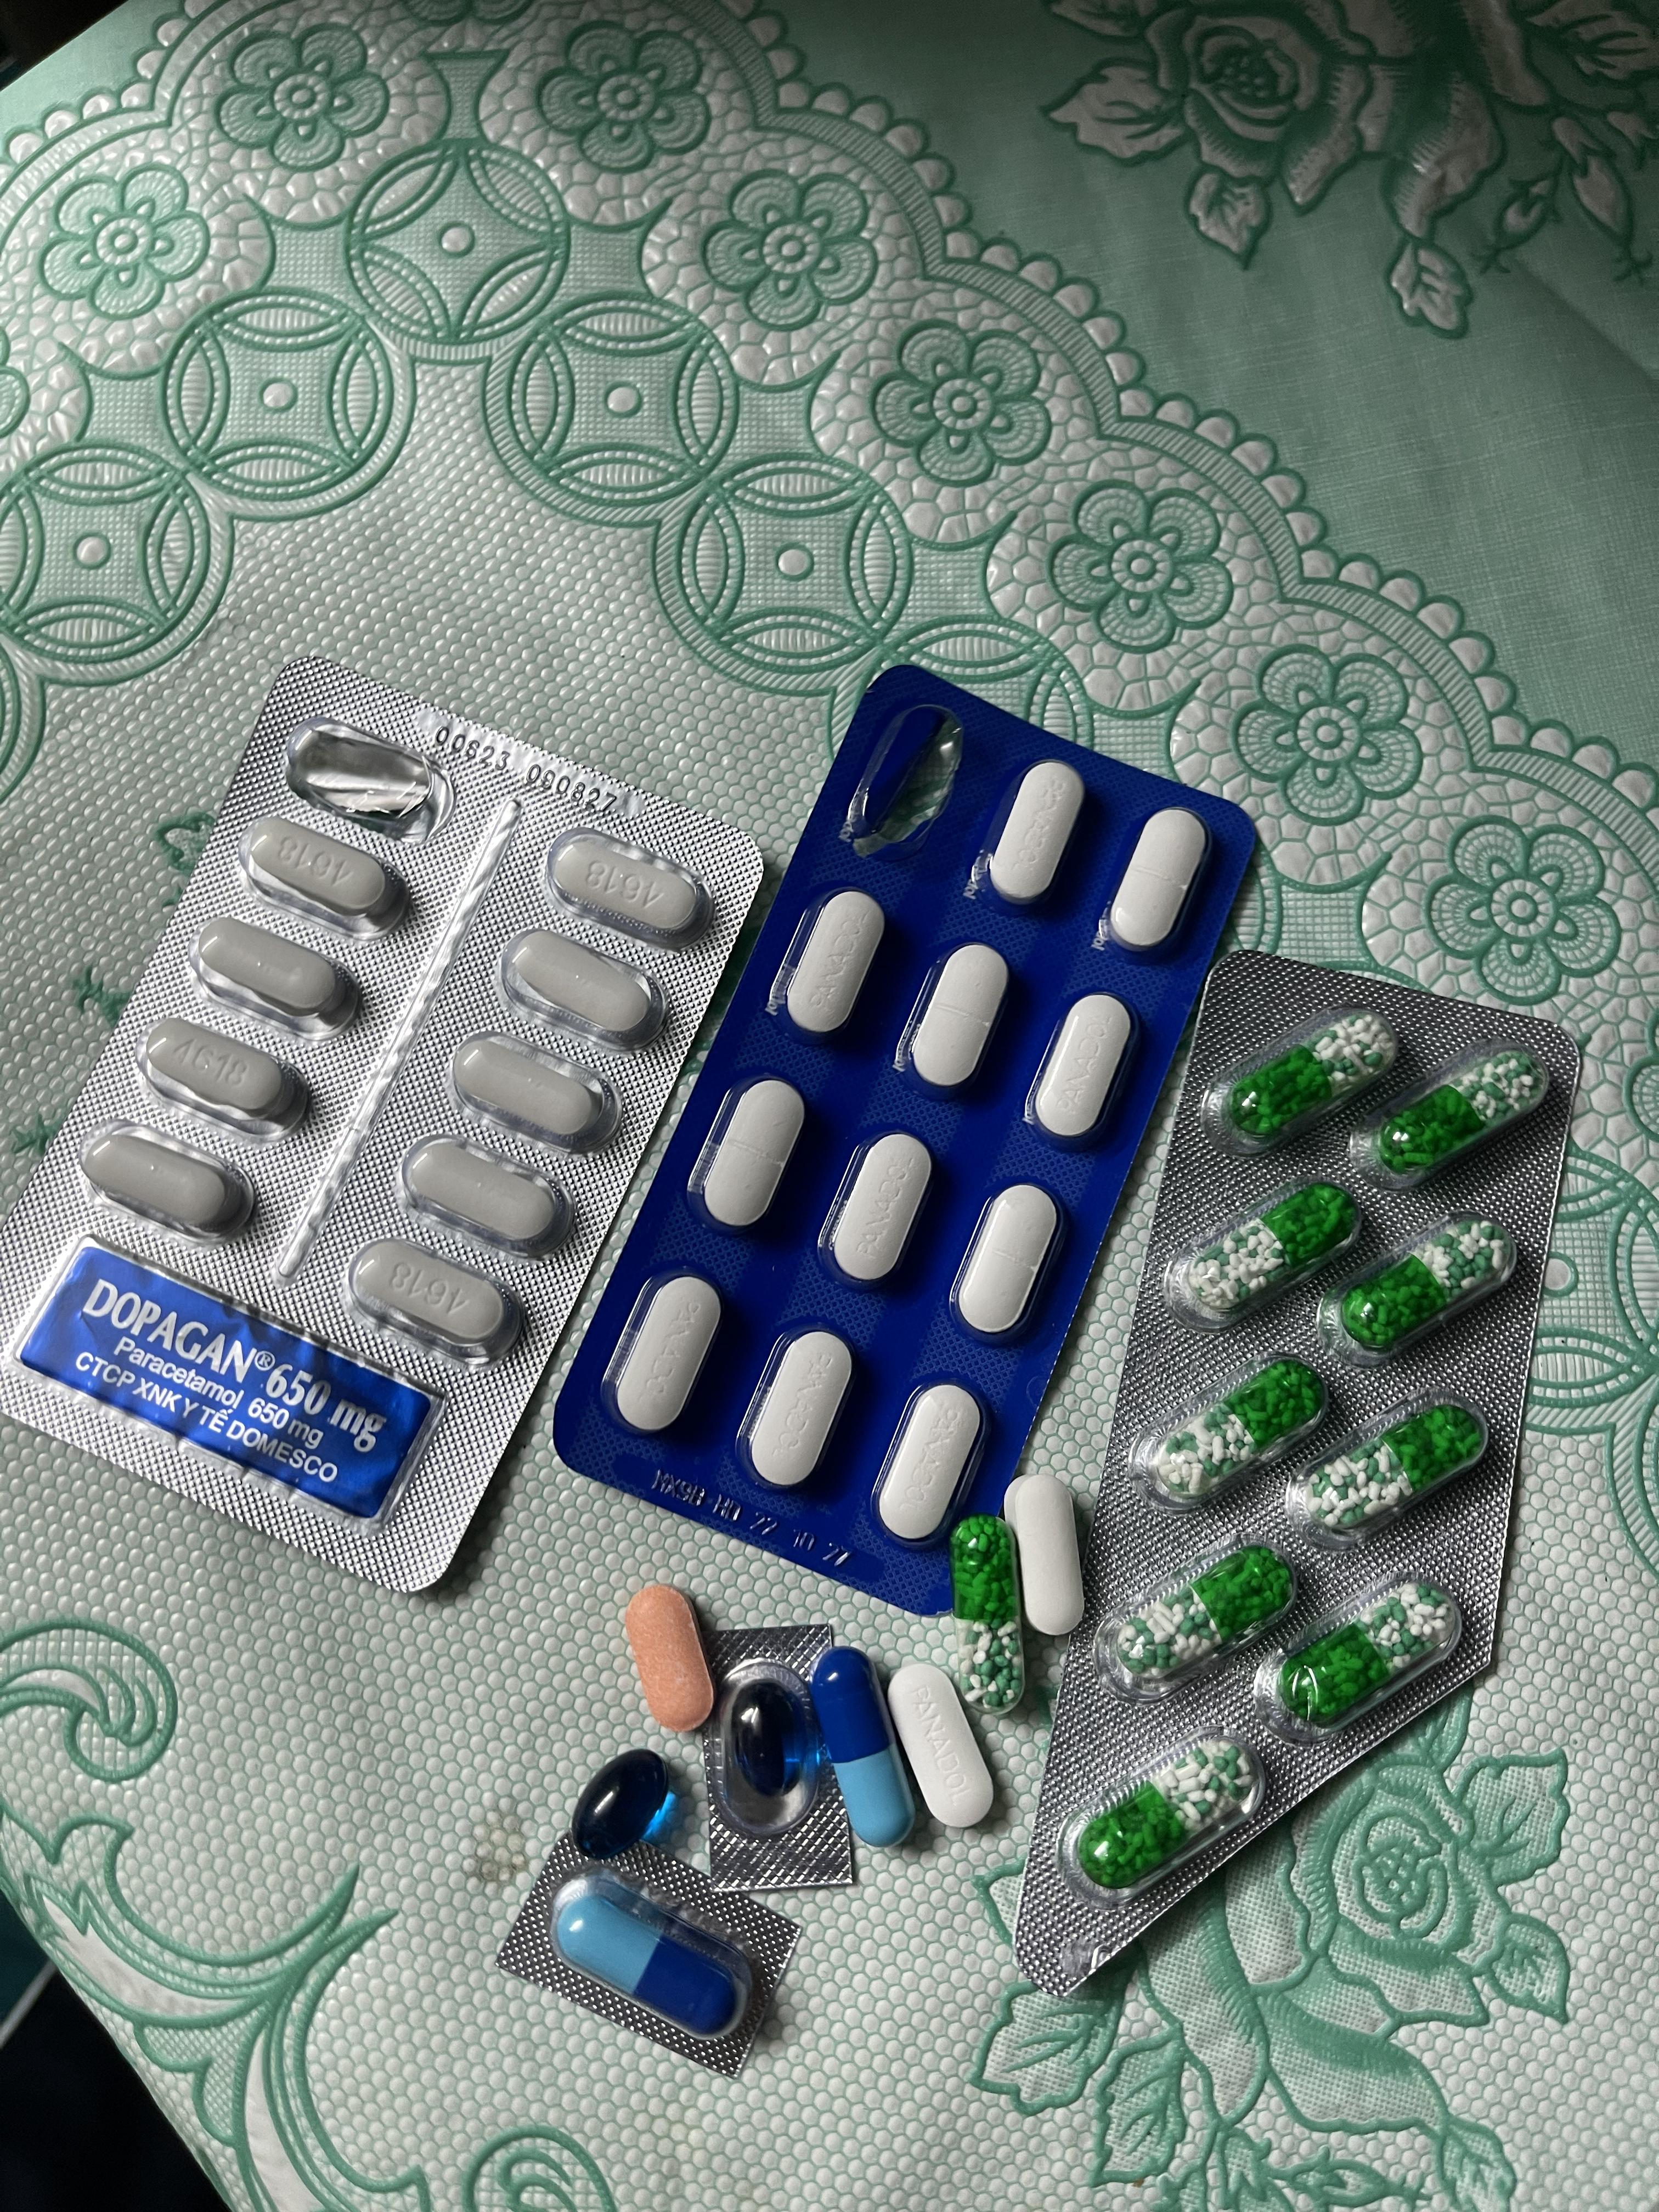Lincomyxin_500mg: (568, 1750, 681, 1864), (734, 1677, 814, 1799)
Loratadine_10mg: (624, 1588, 716, 1735)
Paracetamol_350mg: (601, 1275, 725, 1440), (873, 1378, 993, 1541), (690, 1071, 809, 1235), (950, 1183, 1066, 1346), (744, 1325, 856, 1489), (819, 1130, 934, 1289), (885, 1662, 988, 1834), (901, 941, 1012, 1099), (1028, 996, 1138, 1155), (1103, 810, 1211, 960), (777, 890, 885, 1038), (983, 759, 1087, 909)
Paracetamol_500mg: (347, 1238, 521, 1369), (446, 1026, 619, 1155), (138, 1017, 310, 1146), (500, 928, 667, 1061), (190, 914, 362, 1042), (239, 817, 411, 944), (77, 1122, 256, 1244), (399, 1134, 570, 1261), (545, 827, 709, 953), (1009, 1477, 1087, 1623)
Paracetamol_650mg: (1134, 1352, 1323, 1517), (1283, 1392, 1485, 1545), (1274, 1580, 1459, 1723), (1084, 1738, 1249, 1888), (1338, 1217, 1513, 1352), (1119, 1543, 1291, 1677), (1192, 1186, 1359, 1313), (1229, 1015, 1396, 1139), (1375, 1052, 1546, 1172), (950, 1524, 1026, 1700)
pill: (551, 1872, 755, 2036), (814, 1649, 918, 1848)
